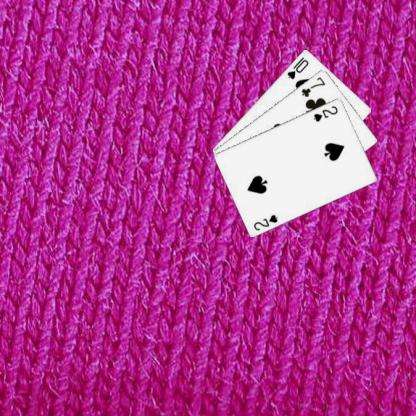10S: (284, 54, 310, 80)
2S: (311, 103, 340, 123), (251, 212, 279, 232)
7C: (298, 74, 326, 98)
